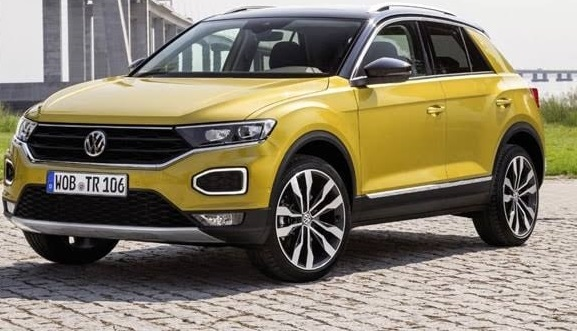car: (1, 1, 555, 280)
